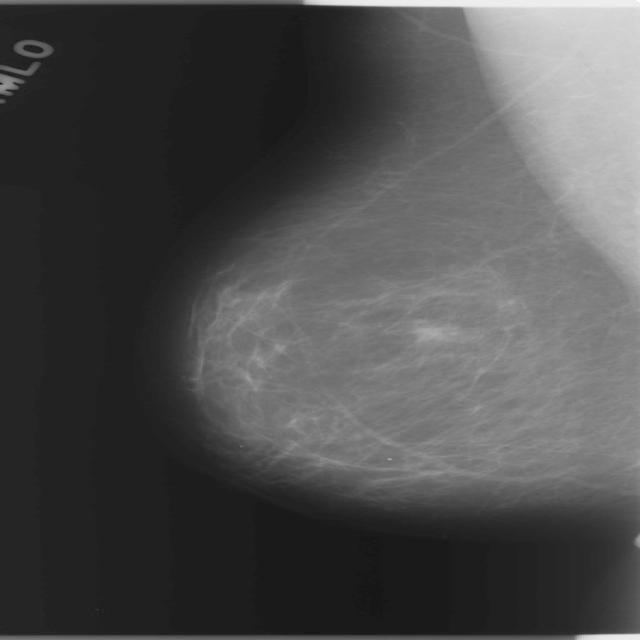tumour: (407, 322, 454, 343)
